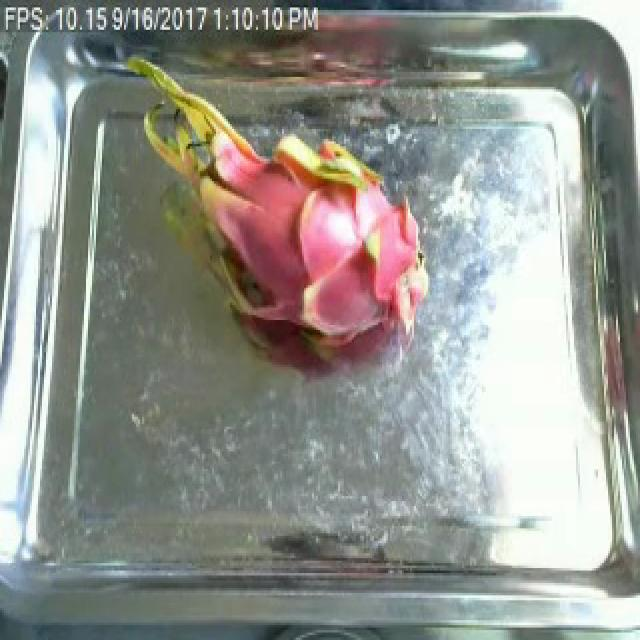fruit: (122, 54, 438, 390)
